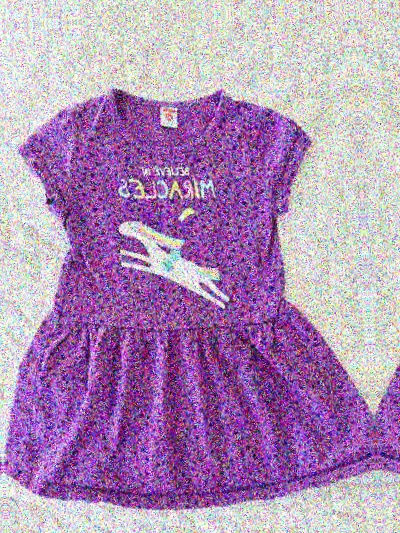Dress: (0, 83, 375, 517), (360, 62, 400, 496), (0, 103, 5, 533)
